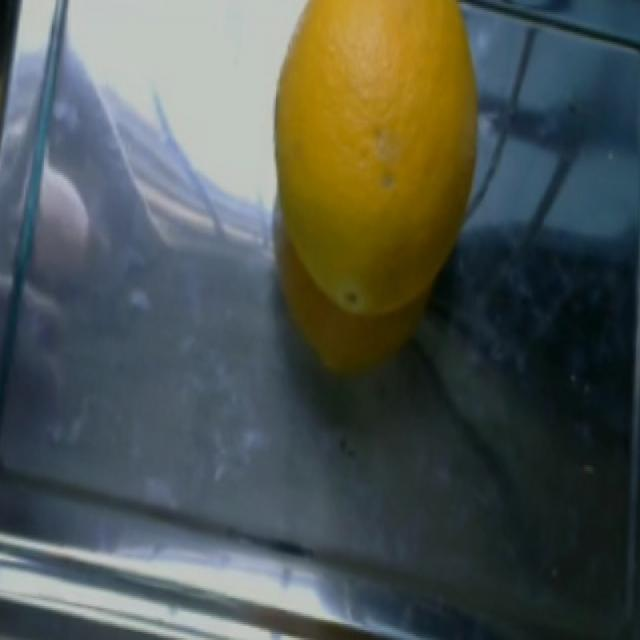Fruit: (251, 0, 496, 336)
